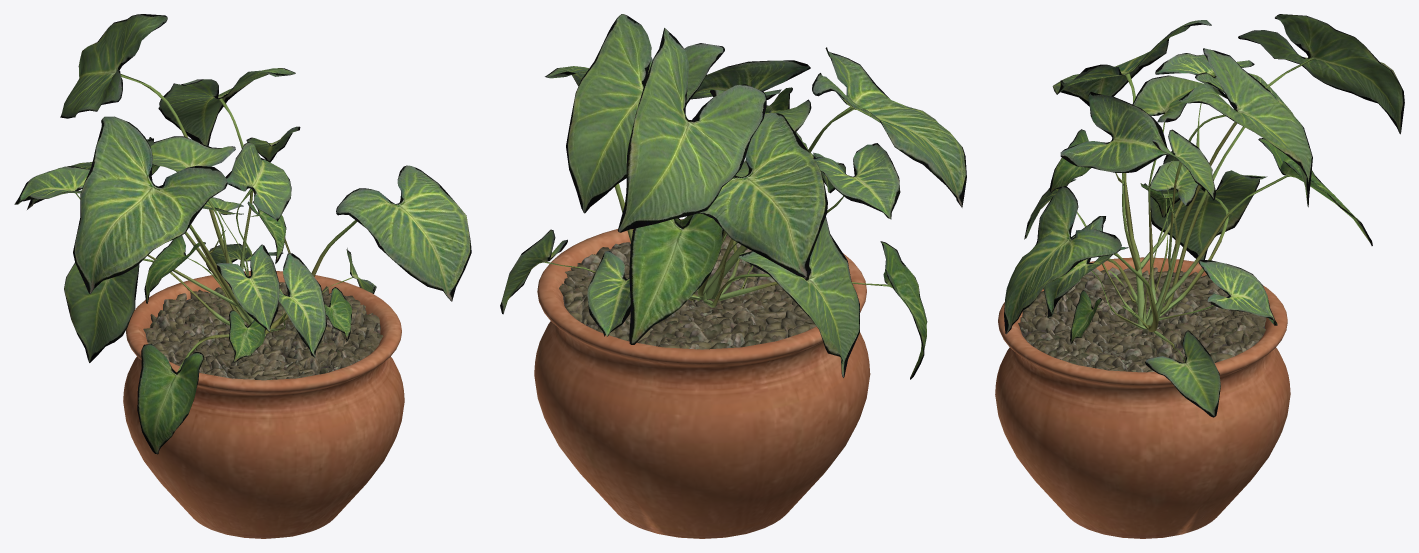
File: potted_plant_02.glb
3 views of the same model, side by side, from view 1: azimuth 30°, elevation 25°; view 2: azimuth 150°, elevation 25°; view 3: azimuth 270°, elevation 25° (orthographic). The views are drawn at different scales.
Visible parts, largest first — view 1: potted_plant_02_leaves, potted_plant_02_pot; view 2: potted_plant_02_leaves, potted_plant_02_pot; view 3: potted_plant_02_pot, potted_plant_02_leaves.
Part boxes in pixels (left/top/right/bottom): potted_plant_02_leaves: left=14, top=14, right=471, bottom=454; potted_plant_02_pot: left=123, top=271, right=404, bottom=538; potted_plant_02_leaves: left=500, top=14, right=966, bottom=379; potted_plant_02_pot: left=534, top=219, right=870, bottom=538; potted_plant_02_pot: left=995, top=257, right=1290, bottom=538; potted_plant_02_leaves: left=1004, top=14, right=1404, bottom=417.
Bounding box in the file's own units: 0.7012 × 0.8412 × 0.6574.
2 materials, 2 textured.
